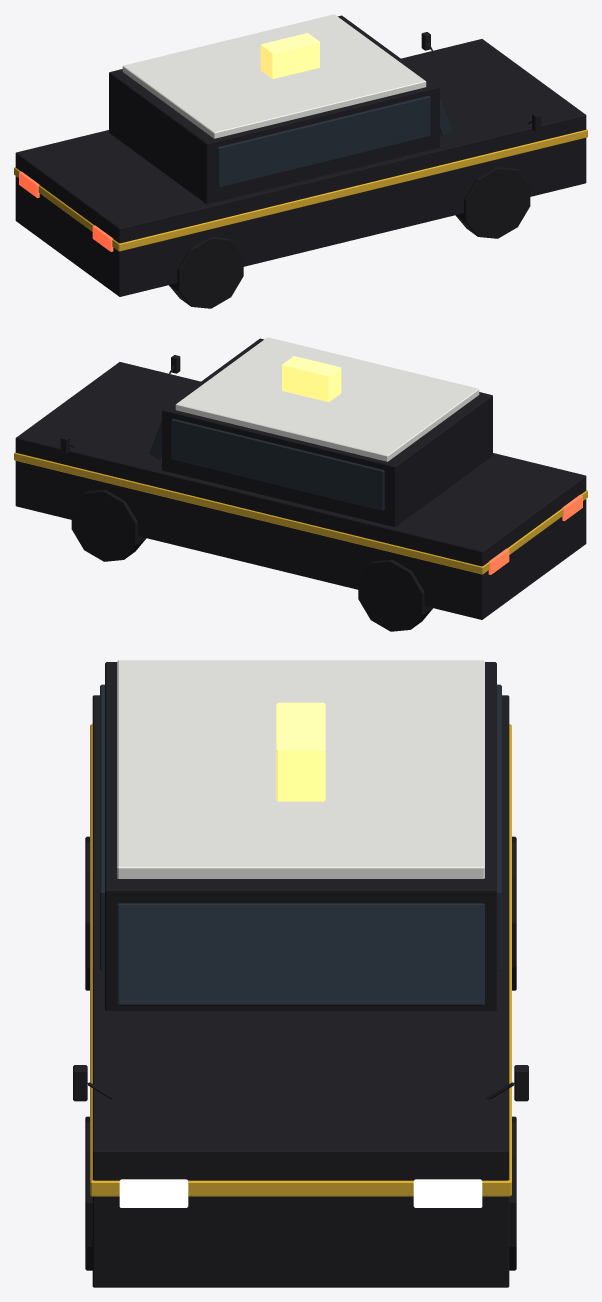
File: taxi.glb
3 renders of one model, top to bottom at view 1: azimuth 30°, elevation 25°; view 2: azimuth 150°, elevation 25°; view 3: azimuth 270°, elevation 25°, orthographic. The views are drawn at different scales.
Parts seen in each view (by area): view 1: taxi; view 2: taxi; view 3: taxi.
Boxes of the visible parts, <box> form: taxi: <box>14,14,587,308</box>; taxi: <box>14,337,587,631</box>; taxi: <box>73,660,528,1287</box>.
Size of the model in its own units: 4.45 by 1.75 by 1.86.
